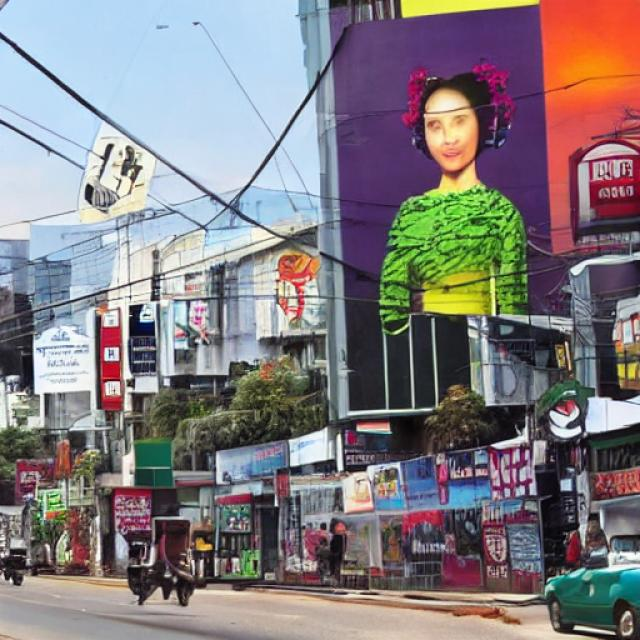Billboard: (332, 8, 556, 334)
